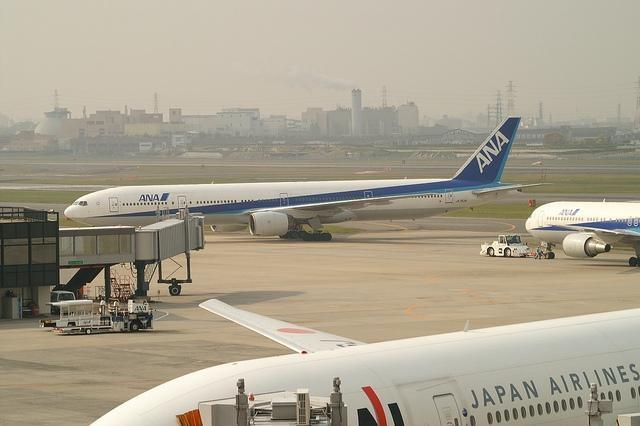truck: (38, 297, 156, 334), (479, 234, 532, 256), (50, 290, 76, 302)
